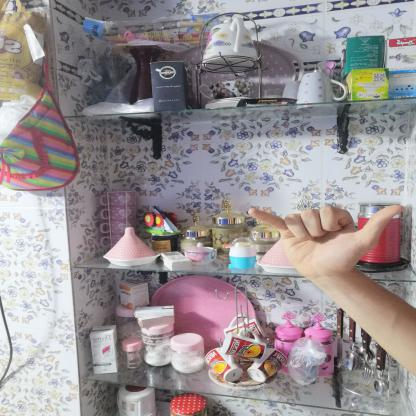YA: (235, 193, 411, 285)
